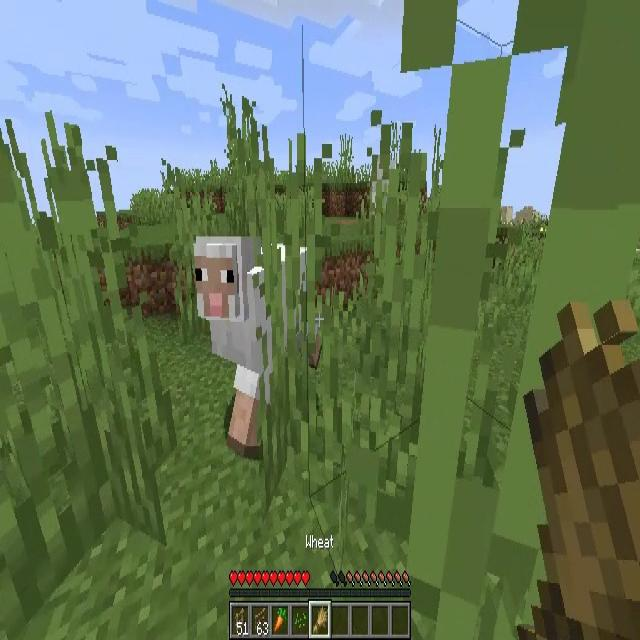sheep: (195, 238, 325, 459)
